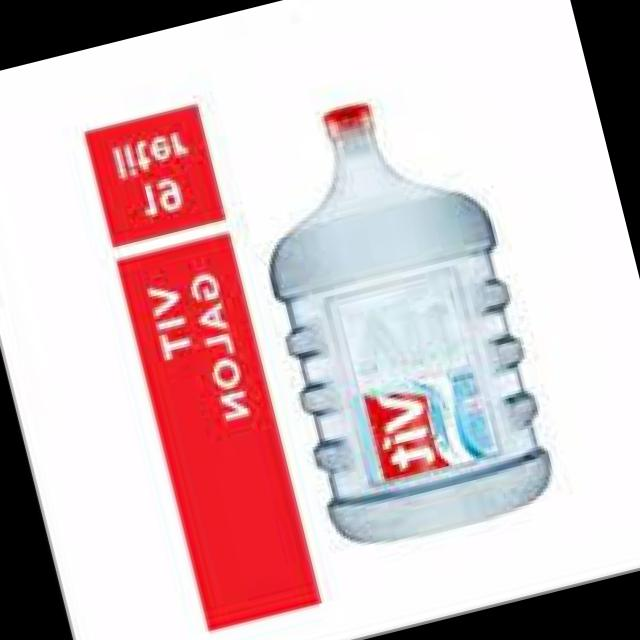Galon: (228, 79, 564, 564)
